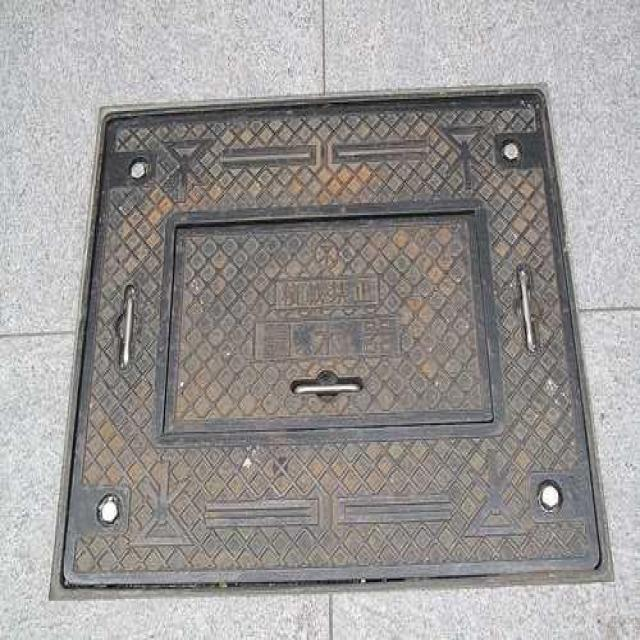manhole: (50, 84, 612, 599)
